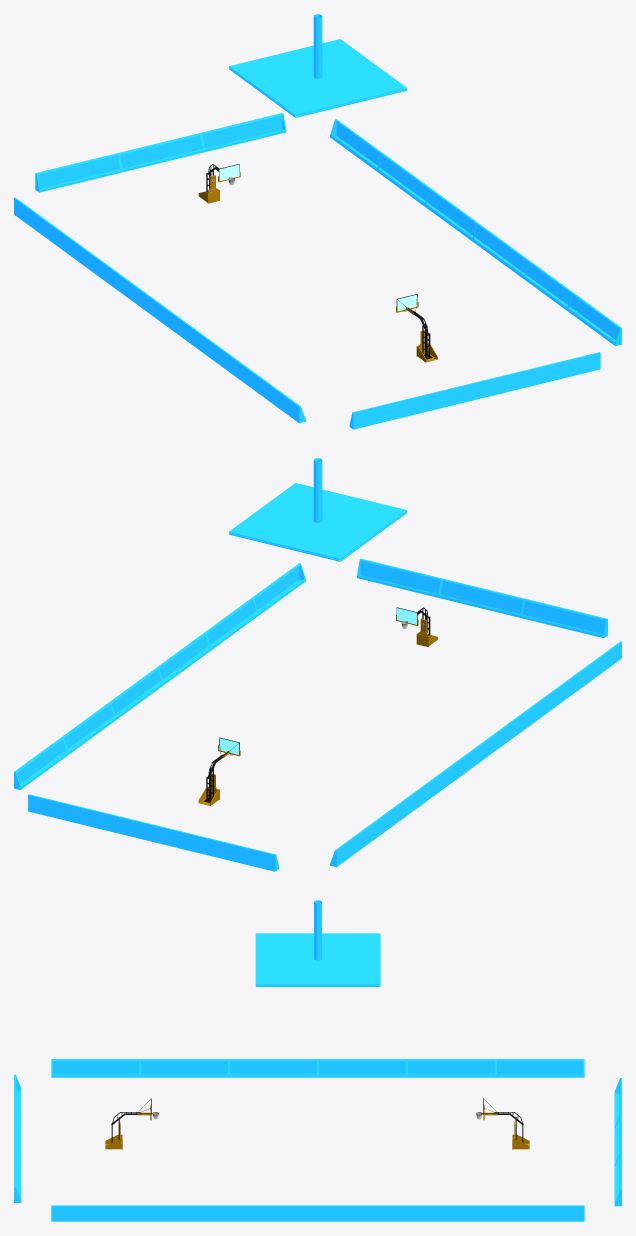
The model's file is CombinedMesh-MeshBaker (4)-mesh.fbx.
The picture shows the model from 3 angles, top to bottom: view 1: azimuth 30°, elevation 25°; view 2: azimuth 150°, elevation 25°; view 3: azimuth 270°, elevation 25°; orthographic projection. The views are drawn at different scales.
Parts seen in each view (by area): view 1: MeshBaker__4__mesh_mesh; view 2: MeshBaker__4__mesh_mesh; view 3: MeshBaker__4__mesh_mesh.
Part boxes in pixels (left/top/right/bottom): MeshBaker__4__mesh_mesh: left=14, top=14, right=621, bottom=429; MeshBaker__4__mesh_mesh: left=14, top=458, right=621, bottom=871; MeshBaker__4__mesh_mesh: left=14, top=900, right=621, bottom=1221.
Bounding box in the file's own units: 2841 × 2217 × 4961.
